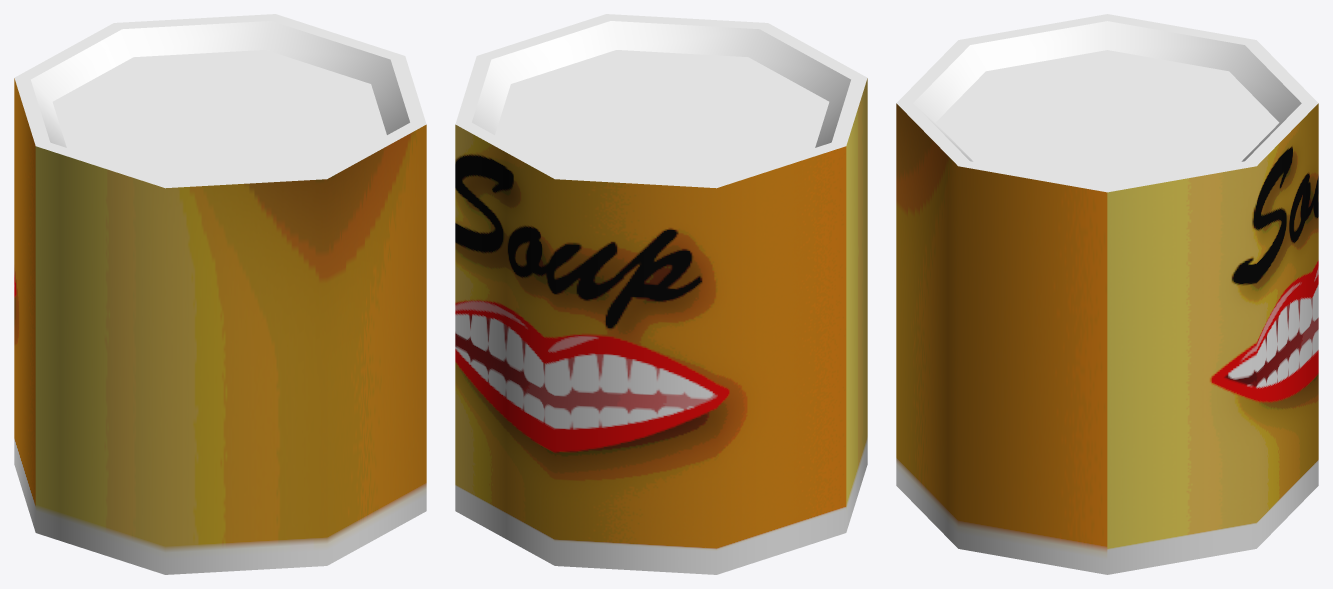
Rendered from SoupCan.fbx.
3 renders of one model, left to right at view 1: azimuth 30°, elevation 25°; view 2: azimuth 150°, elevation 25°; view 3: azimuth 270°, elevation 25°, orthographic.
Visible parts, largest first — view 1: SoupCan; view 2: SoupCan; view 3: SoupCan.
Part boxes in pixels (x1,y1,x2,y2): SoupCan: (14, 14, 426, 574); SoupCan: (455, 14, 867, 574); SoupCan: (896, 14, 1318, 574).
Size of the model in its own units: 0.1476 by 0.1476 by 0.1476.
